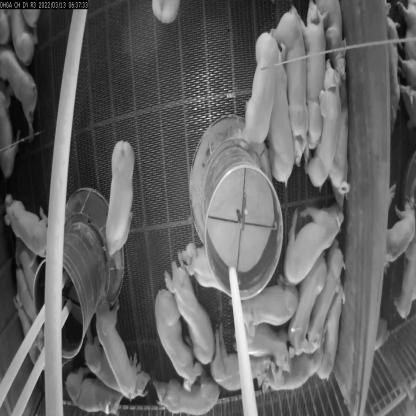Pig: (99, 130, 143, 276), (239, 30, 278, 159), (144, 292, 196, 383), (82, 334, 144, 407), (269, 50, 299, 186), (2, 190, 56, 263), (170, 262, 210, 360), (296, 192, 340, 277), (281, 9, 306, 154), (312, 54, 338, 192), (148, 364, 218, 414), (90, 302, 139, 367), (237, 282, 292, 332), (279, 265, 313, 340), (57, 372, 114, 416), (216, 348, 267, 392), (303, 19, 323, 130), (241, 330, 273, 364), (310, 246, 316, 367)
